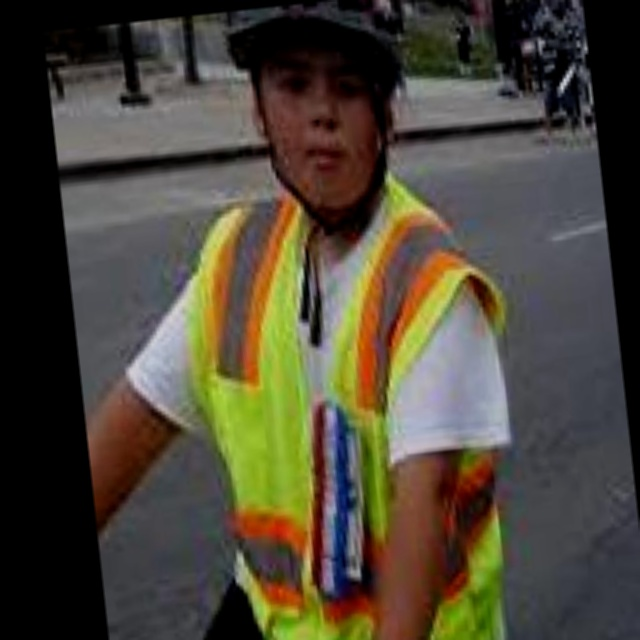Con_Chaleco: (187, 171, 543, 640)
